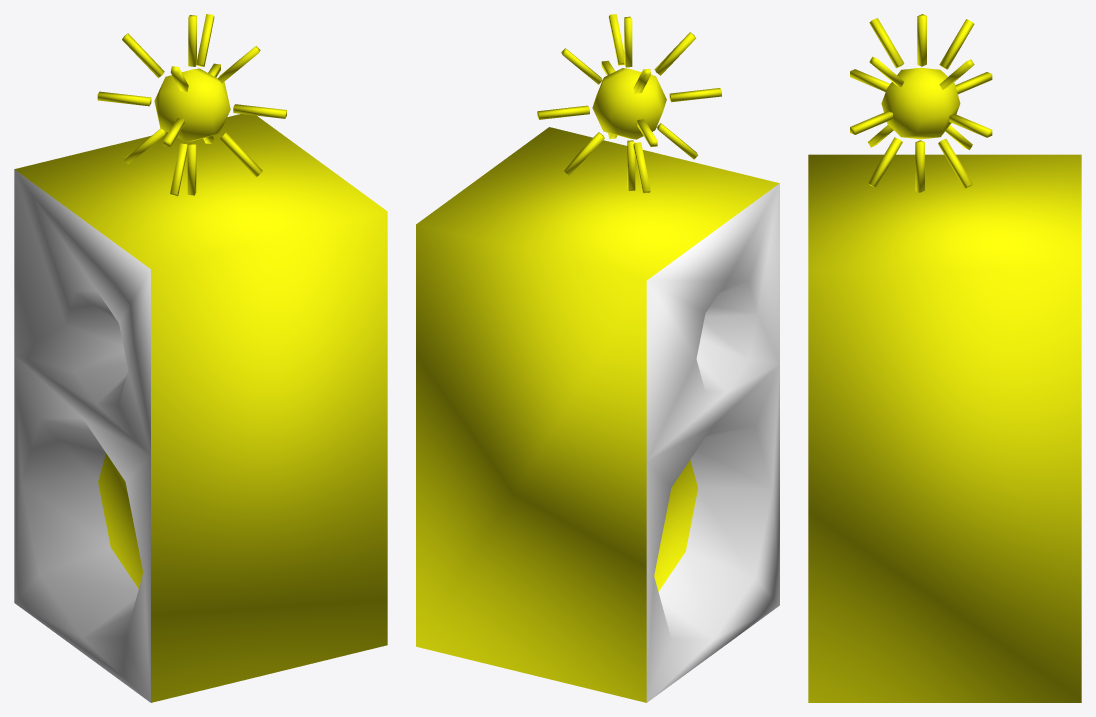
The model's file is INVISIBLE_ZCVOBSOUNDDAYTIME.glb.
3 views of the same model, side by side, from view 1: azimuth 30°, elevation 25°; view 2: azimuth 150°, elevation 25°; view 3: azimuth 270°, elevation 25° (orthographic). The views are drawn at different scales.
Visible parts, largest first — view 1: Mesh; view 2: Mesh; view 3: Mesh.
Part boxes in pixels (bbox=[...]): Mesh: bbox=[14, 14, 387, 702]; Mesh: bbox=[416, 14, 779, 702]; Mesh: bbox=[808, 14, 1081, 702].
Size of the model in its own units: 0.4 by 1 by 0.4.
